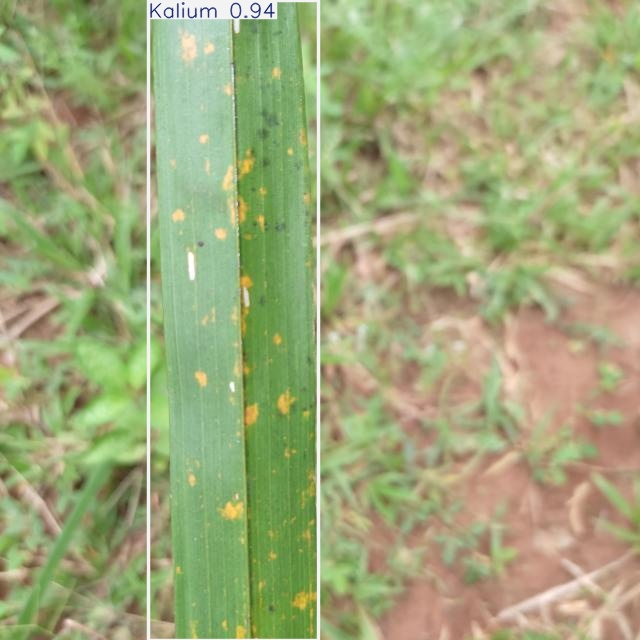Kalium: (148, 0, 319, 640)
